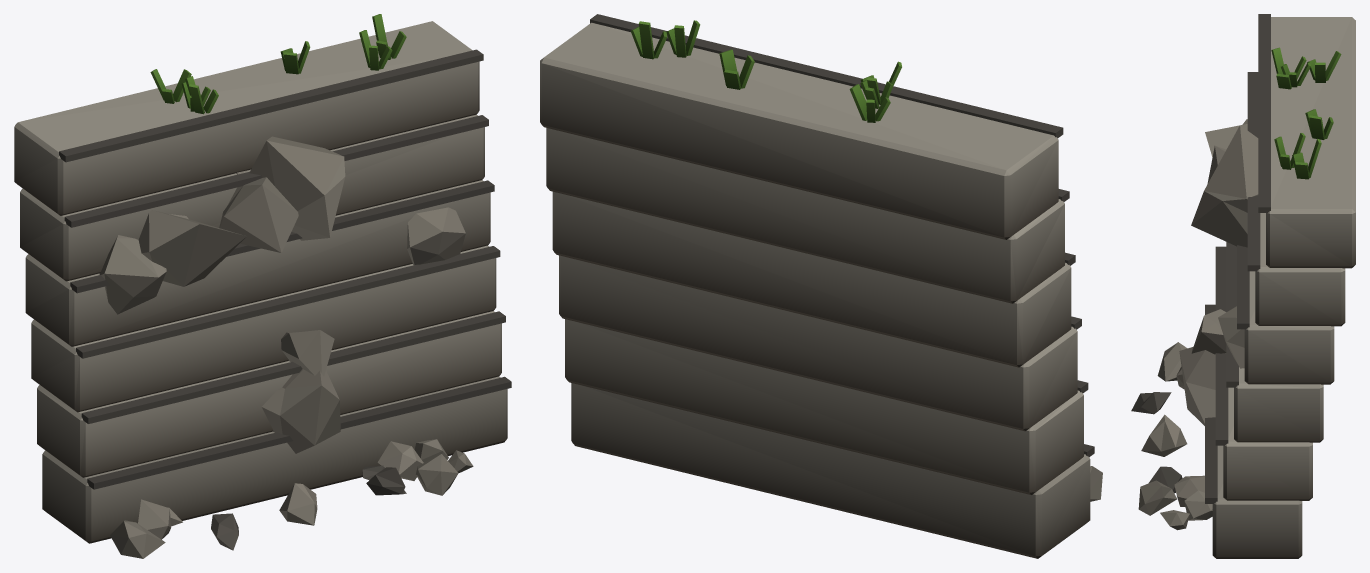
File: cutting-rock-face.glb
3 renders of one model, left to right at view 1: azimuth 30°, elevation 25°; view 2: azimuth 150°, elevation 25°; view 3: azimuth 270°, elevation 25°, orthographic. The views are drawn at different scales.
Parts seen in each view (by area): view 1: cutting_rock_face; view 2: cutting_rock_face; view 3: cutting_rock_face.
Boxes of the visible parts, x1,y1,x2,y2 form: cutting_rock_face: [14, 14, 511, 558]; cutting_rock_face: [540, 14, 1102, 558]; cutting_rock_face: [1131, 14, 1355, 558].
Size of the model in its own units: 3.6 by 3.31 by 1.75.
